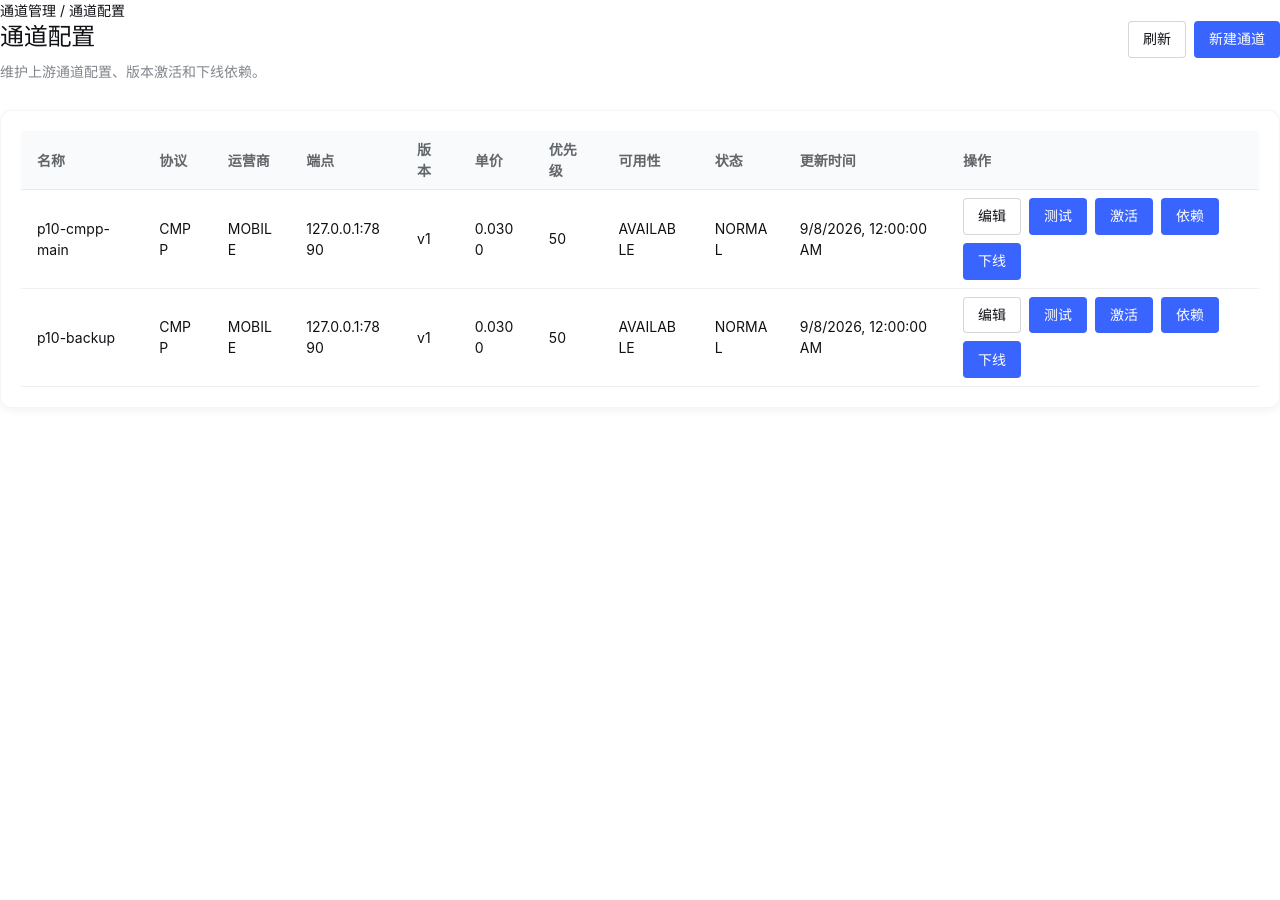
Scenario: Phase 10 channel configuration UI › shows blocked offline result when server keeps dependencies unresolved
Expected: the element with test id "admin-channel-configuration-channel-configuration-page" is shown, [0,0,1279,408]
Click the 1st button with test id "admin-channel-configuration-channel-offline" at (992, 261), box [963,243,1021,280]
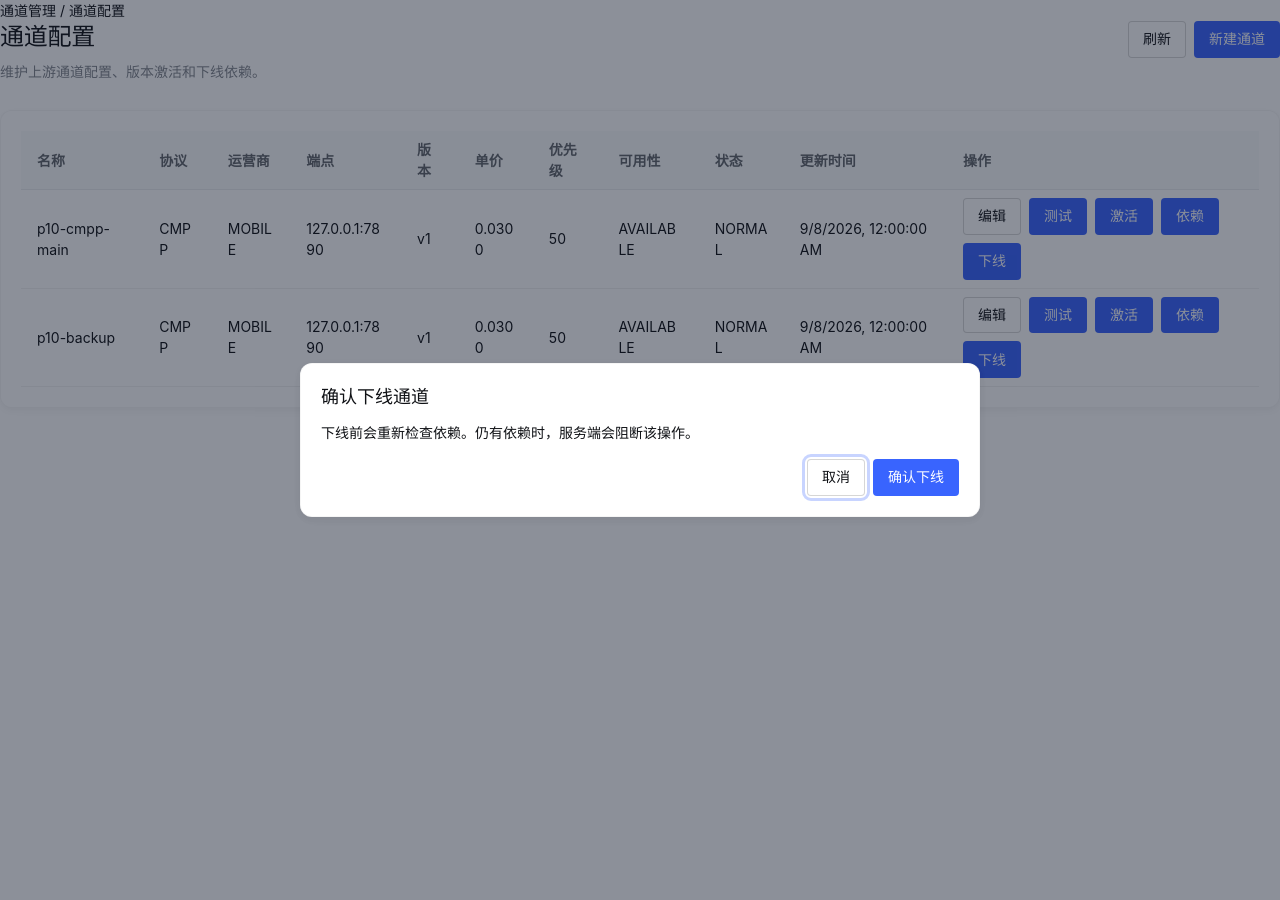
Click the button "确认下线" at (916, 478), box [873,459,959,496]
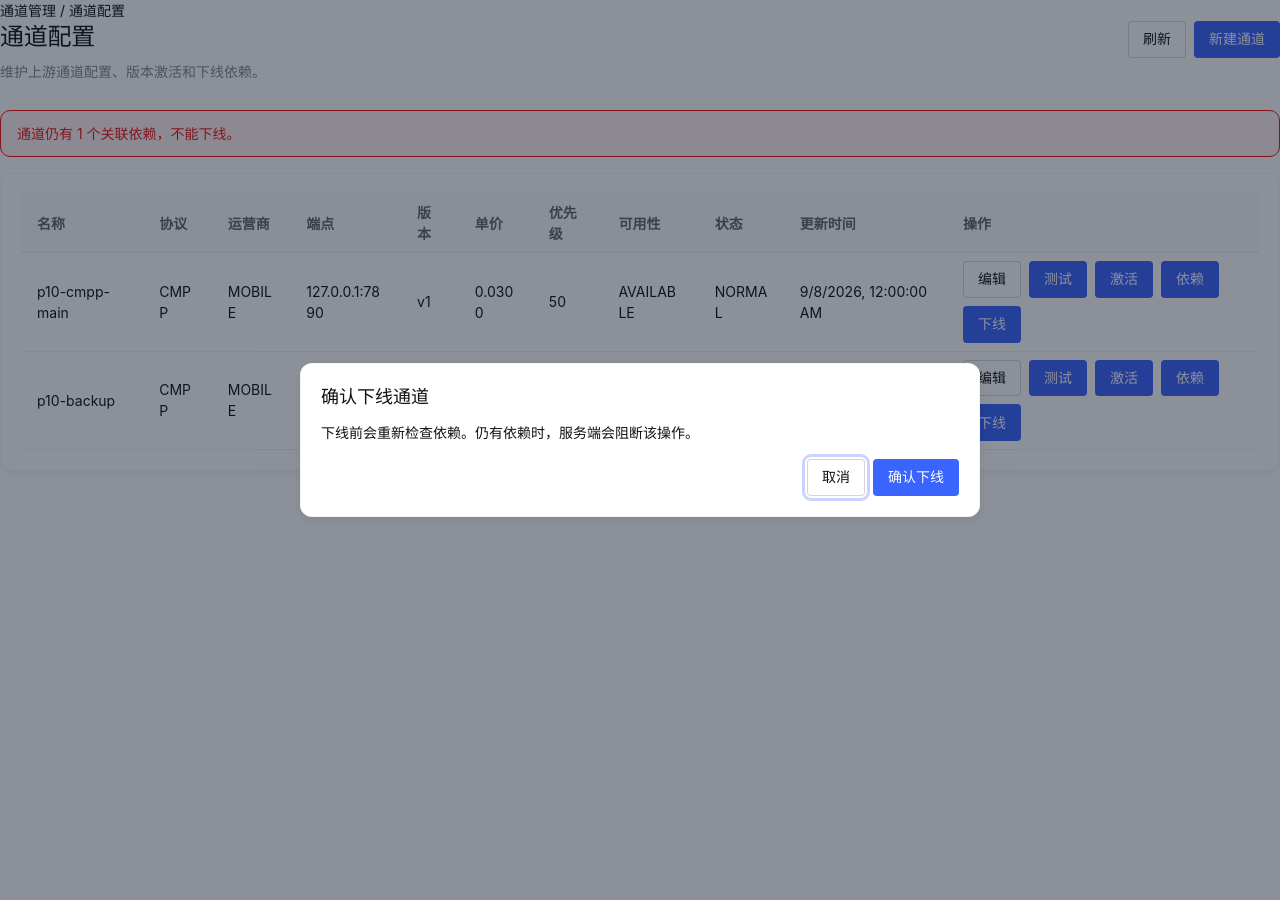
Expected: the row with test id "admin-channel-configuration-channel-row" shows "NORMAL", [715,283,767,321]
Result: the dialog is shown at [300,363,980,517]
Result: the text "通道仍有 1 个关联依赖，不能下线。" is shown at [0,110,1279,157]
